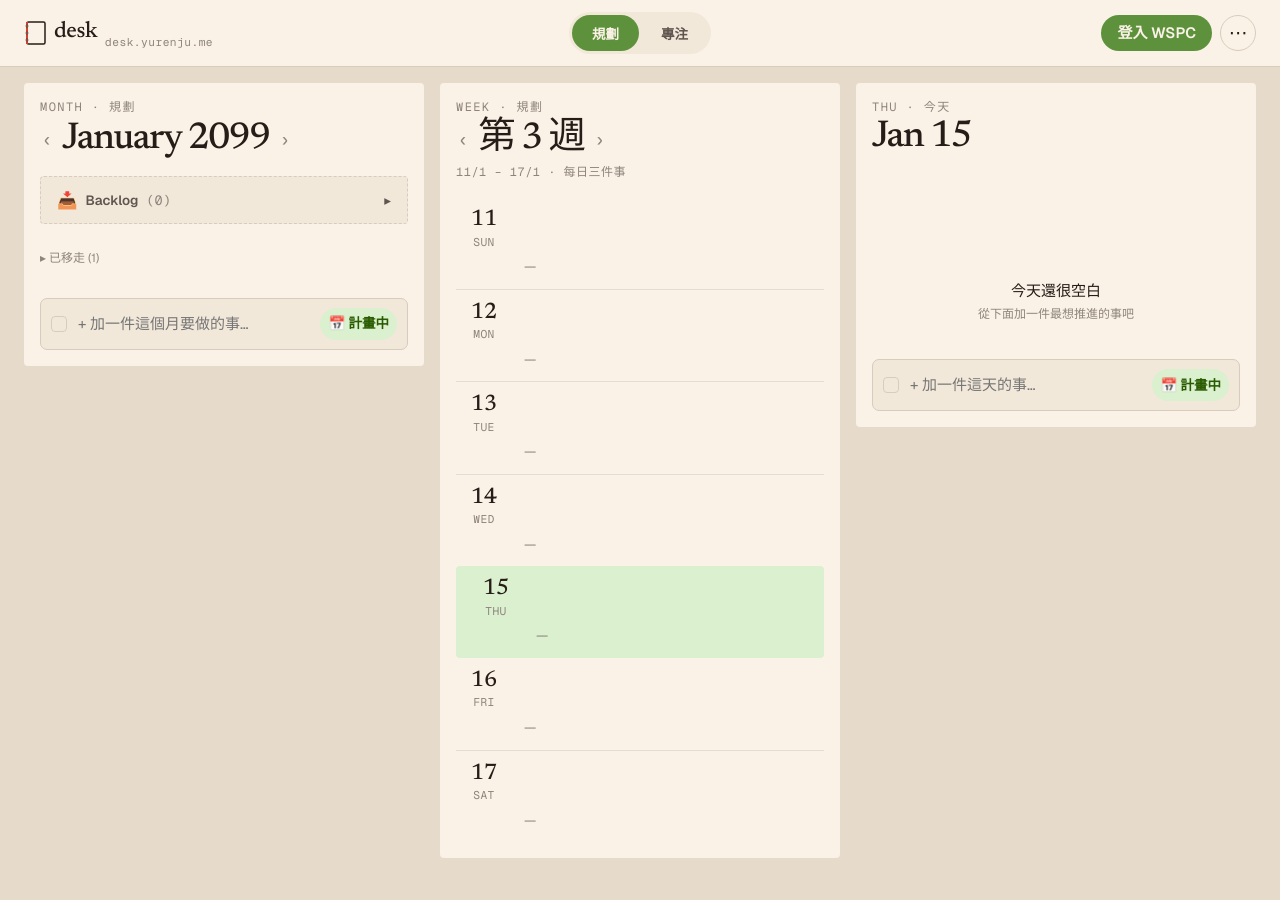
collapses undone moved-away (forwarded) tasks into a 已移走 group
Expected: the text "已順延任務" is not shown
Click the button "▸ 已移走 (1)" at x=70, y=257, box [40,240,99,274]
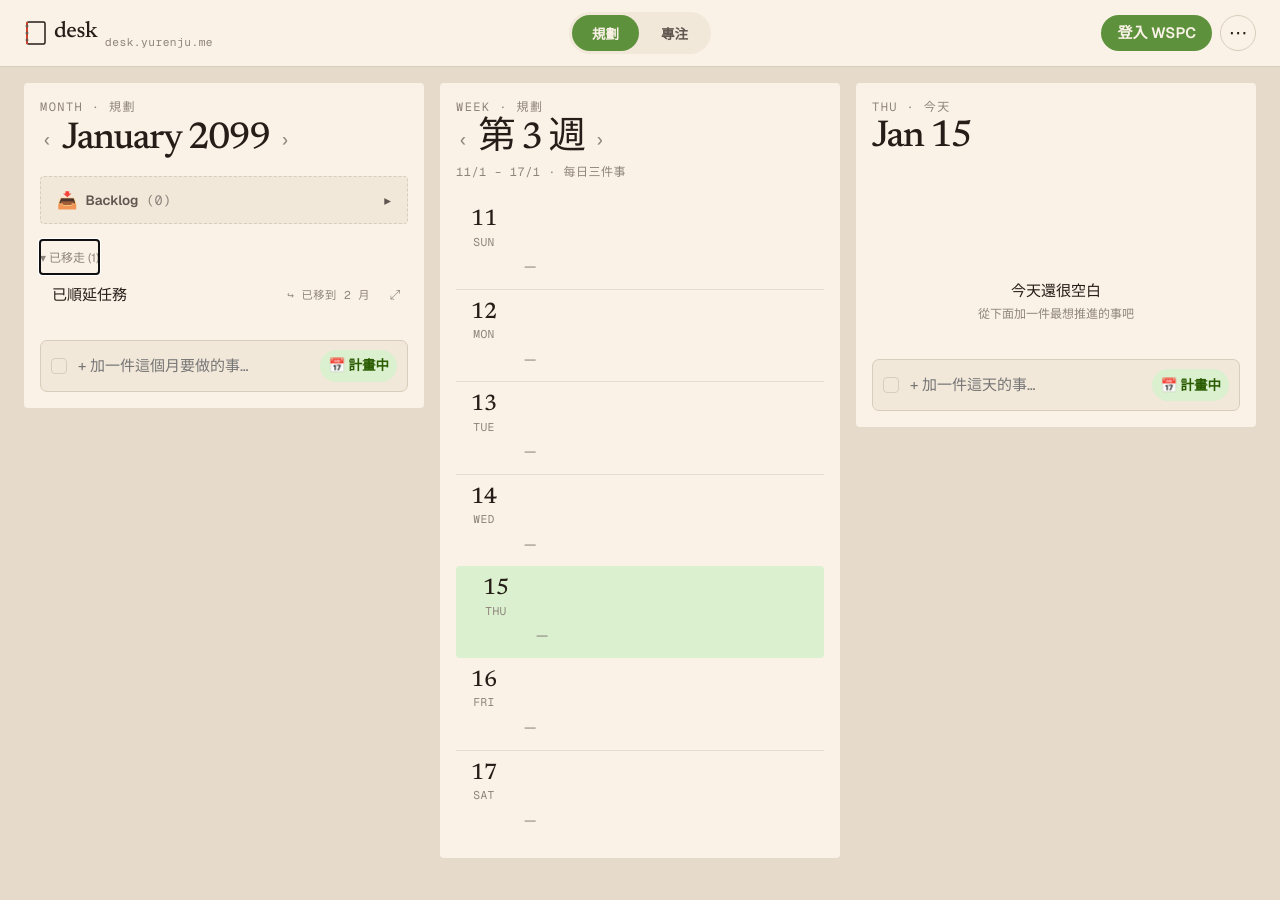
Expected: the text "已順延任務" is shown, [52,285,127,304]
